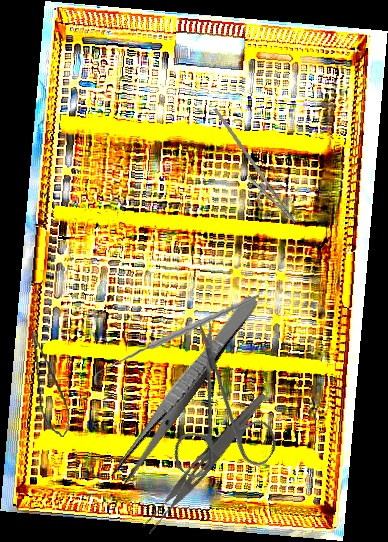Dressing Forceps: (109, 290, 261, 487), (138, 386, 270, 538)
Hook Surgical: (93, 279, 260, 399)
Iris Scissors: (124, 318, 314, 509)
Micro Scissor: (27, 327, 74, 440)
Needle Holder: (193, 107, 309, 231)
